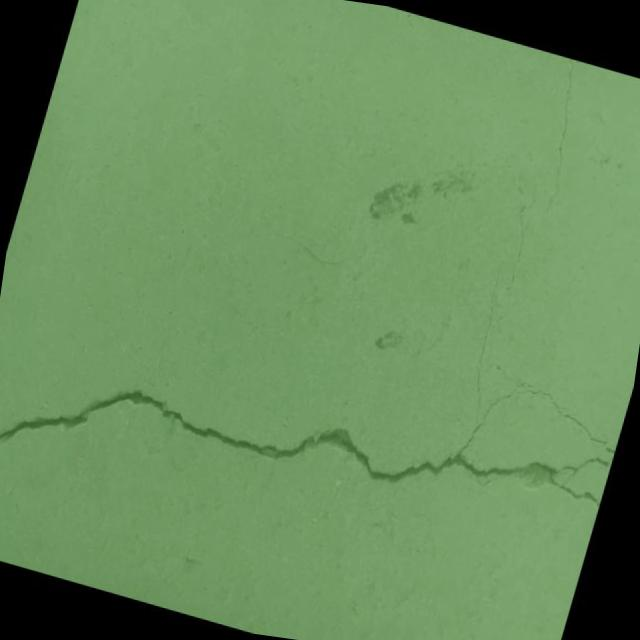crack: (0, 131, 640, 640), (528, 56, 595, 217), (497, 204, 535, 298), (0, 469, 46, 544)
